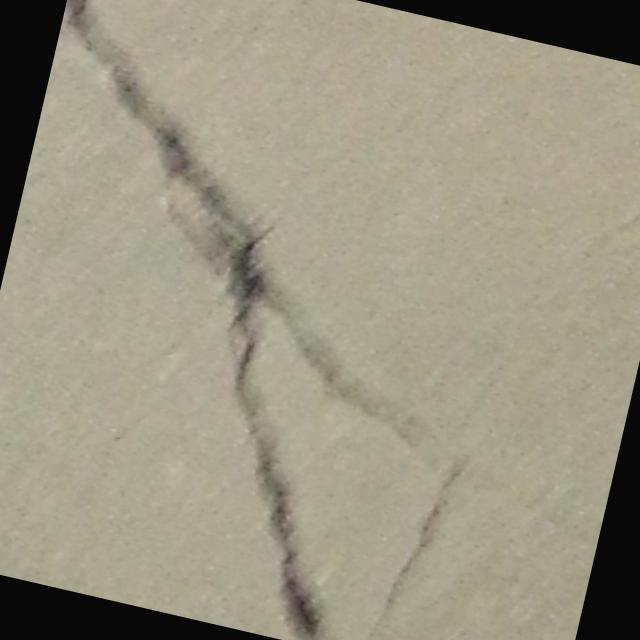crack: (0, 0, 557, 404), (164, 348, 480, 640)
